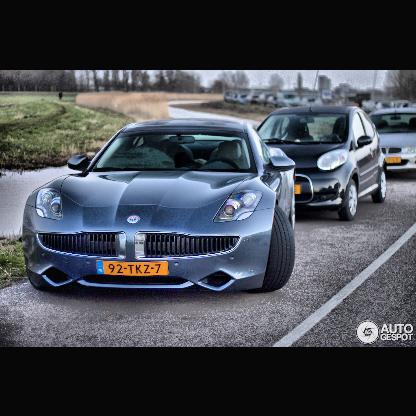Fisker Karma Sedan 2012: (22, 118, 299, 300)
